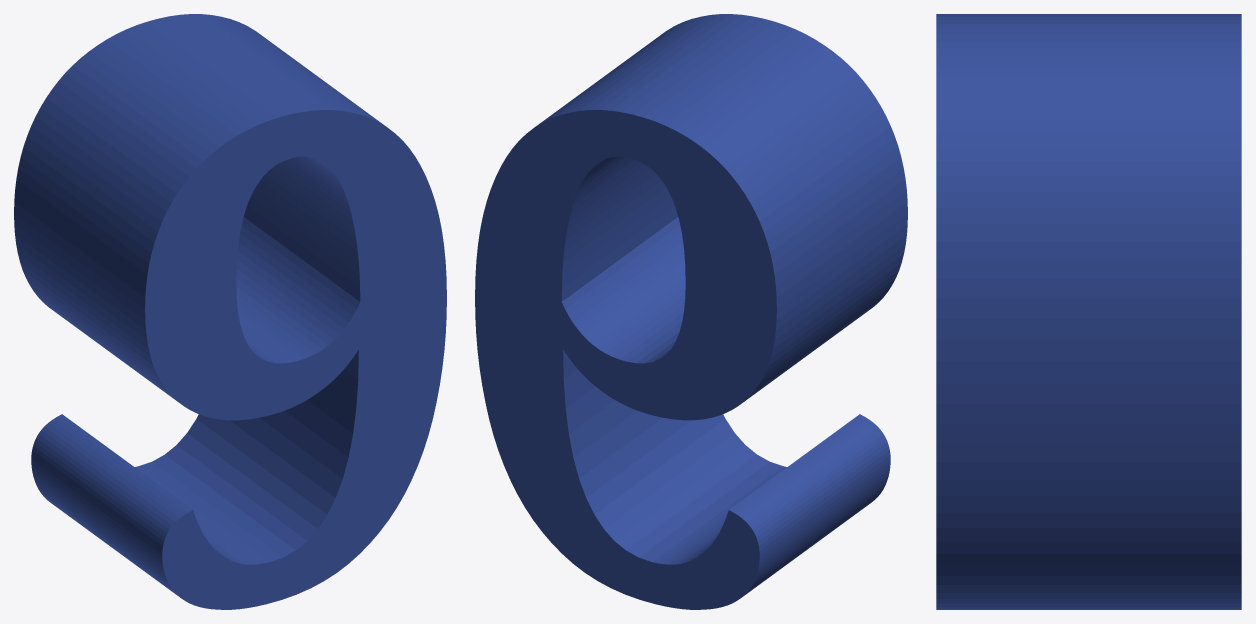
Rendered from tinker.obj.
3 renders of one model, left to right at view 1: azimuth 30°, elevation 25°; view 2: azimuth 150°, elevation 25°; view 3: azimuth 270°, elevation 25°, orthographic. The views are drawn at different scales.
Visible parts, largest first — view 1: obj_0; view 2: obj_0; view 3: obj_0.
Part boxes in pixels (x1,y1,x2,y2): obj_0: [14, 14, 446, 609]; obj_0: [475, 14, 907, 609]; obj_0: [936, 14, 1241, 609].
Bounding box in the file's own units: 74.4 × 114 × 55.94.
